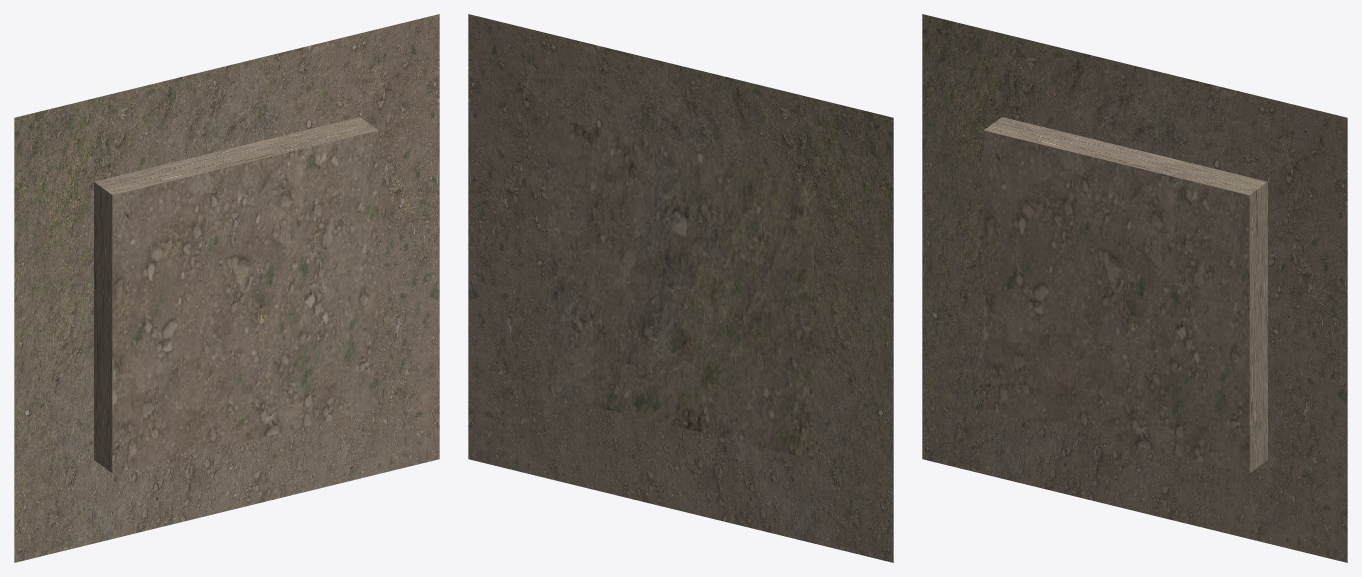
The model's file is square.obj.
3 views of the same model, side by side, from view 1: azimuth 30°, elevation 25°; view 2: azimuth 150°, elevation 25°; view 3: azimuth 330°, elevation 25° (orthographic).
Visible parts, largest first — view 1: Cube.001_Cube.001; view 2: Cube.001_Cube.001; view 3: Cube.001_Cube.001.
Boxes of the visible parts, bbox=[...] form: Cube.001_Cube.001: bbox=[14, 14, 439, 562]; Cube.001_Cube.001: bbox=[468, 14, 893, 562]; Cube.001_Cube.001: bbox=[922, 14, 1347, 562].
Size of the model in its own units: 400 by 400 by 30.
